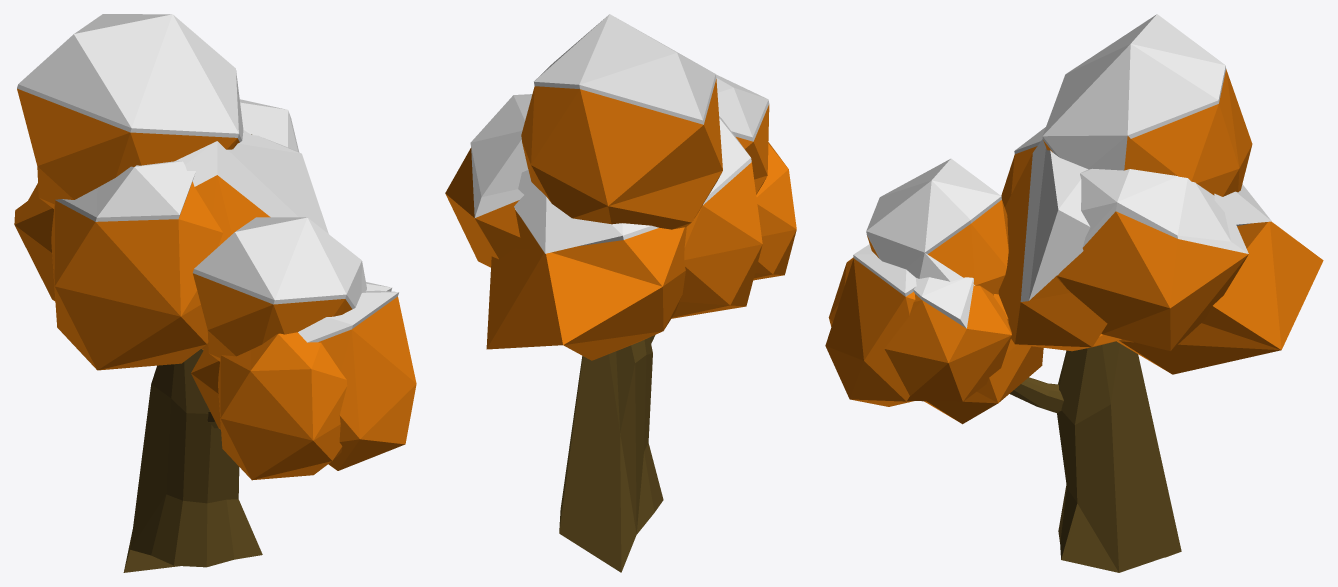
The model's file is Tree#4_Snow.fbx.
The picture shows the model from 3 angles, left to right: view 1: azimuth 30°, elevation 25°; view 2: azimuth 150°, elevation 25°; view 3: azimuth 270°, elevation 25°; orthographic projection. The views are drawn at different scales.
Visible parts, largest first — view 1: Tree#4_Snow; view 2: Tree#4_Snow; view 3: Tree#4_Snow.
Boxes of the visible parts, <box> form: Tree#4_Snow: <box>14,14,416,572</box>; Tree#4_Snow: <box>445,14,796,572</box>; Tree#4_Snow: <box>825,14,1323,572</box>.
Bounding box in the file's own units: 568 × 1056 × 903.
